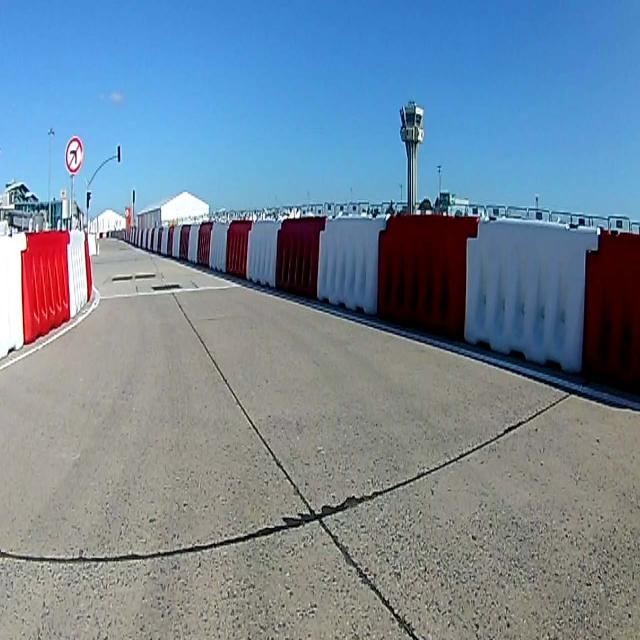soladonulmez: (64, 135, 84, 173)
